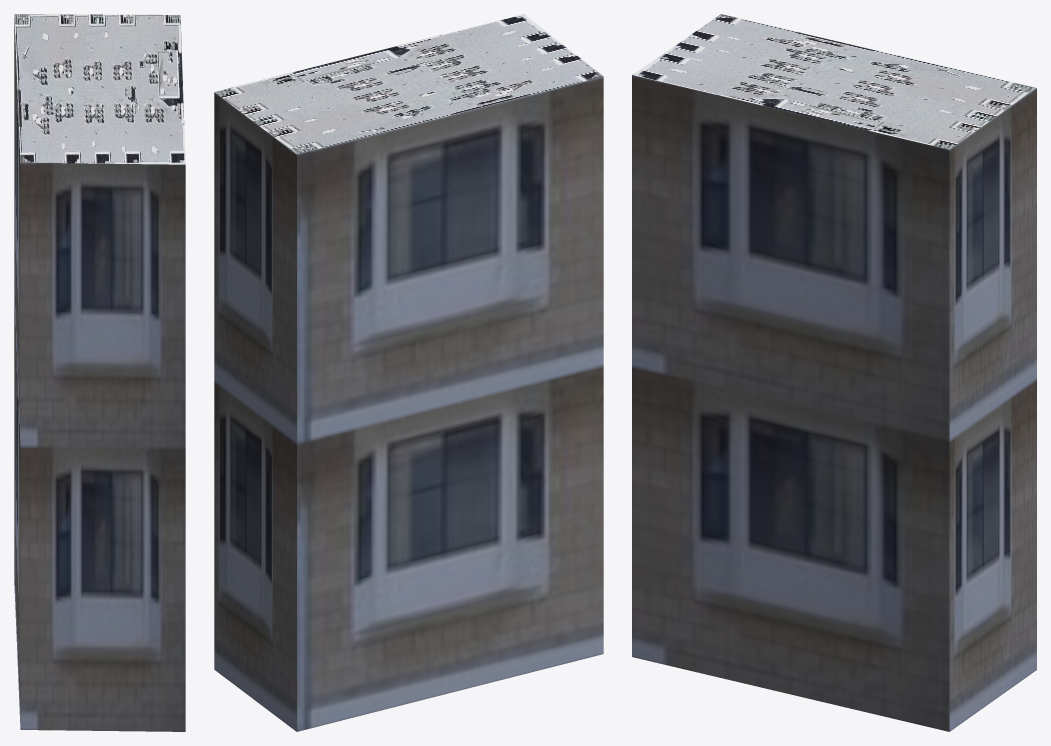
File: ResTex__2384.fbx
3 views of the same model, side by side, from view 1: azimuth 30°, elevation 25°; view 2: azimuth 150°, elevation 25°; view 3: azimuth 270°, elevation 25° (orthographic). The views are drawn at different scales.
Visible parts, largest first — view 1: CityEngineMaterial_3_m, CityEngineMaterial_4_m; view 2: CityEngineMaterial_3_m, CityEngineMaterial_4_m; view 3: CityEngineMaterial_3_m, CityEngineMaterial_4_m.
Part boxes in pixels (bbox=[...]): CityEngineMaterial_3_m: bbox=[14, 18, 185, 731]; CityEngineMaterial_4_m: bbox=[14, 14, 185, 164]; CityEngineMaterial_3_m: bbox=[214, 76, 603, 731]; CityEngineMaterial_4_m: bbox=[214, 14, 603, 154]; CityEngineMaterial_3_m: bbox=[632, 75, 1036, 731]; CityEngineMaterial_4_m: bbox=[632, 14, 1036, 149].
Bounding box in the file's own units: 3 × 6 × 3.78.
Materials: 2 (2 with a texture image).
